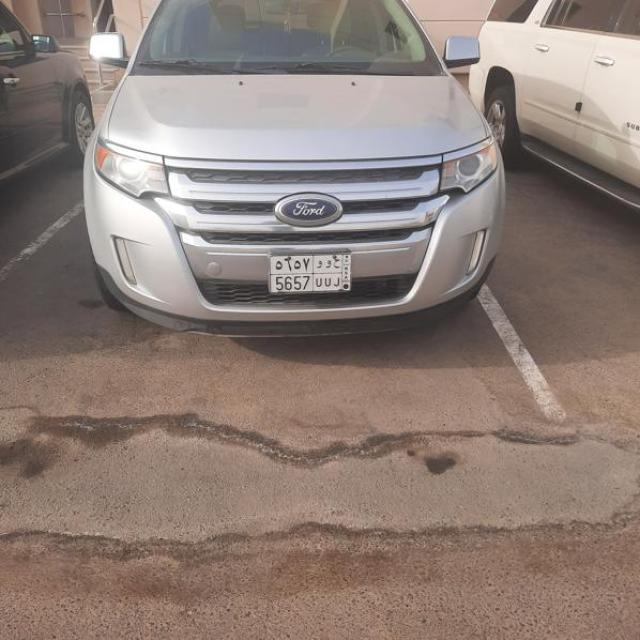license_plate: (270, 252, 350, 292)
